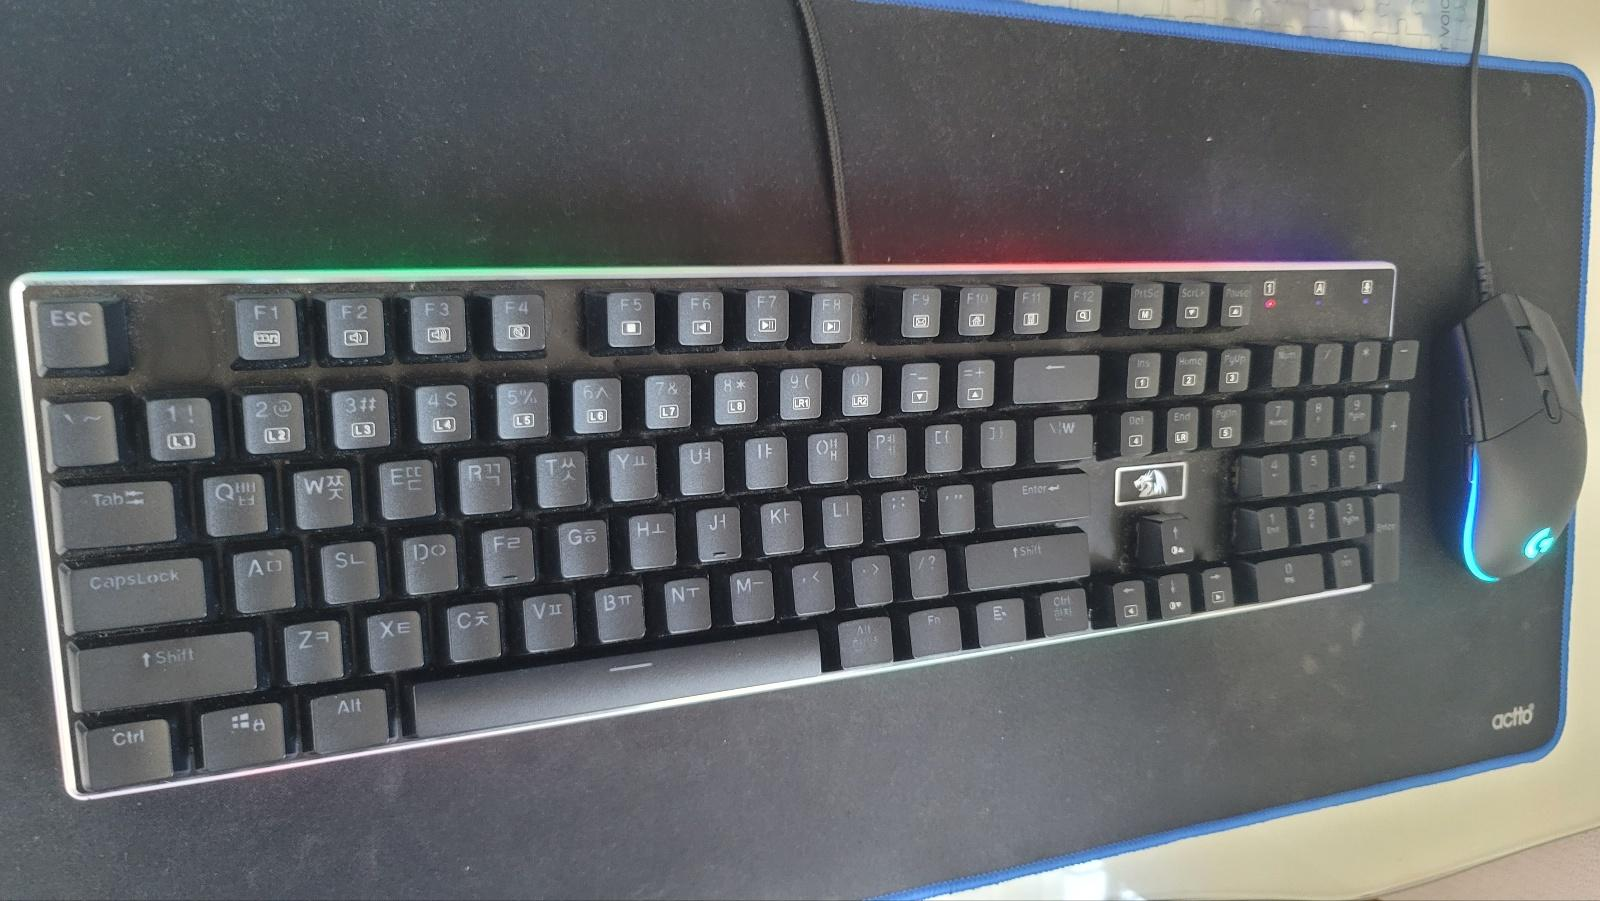keyboard: (9, 259, 1423, 799)
mouse: (1427, 290, 1588, 583)
